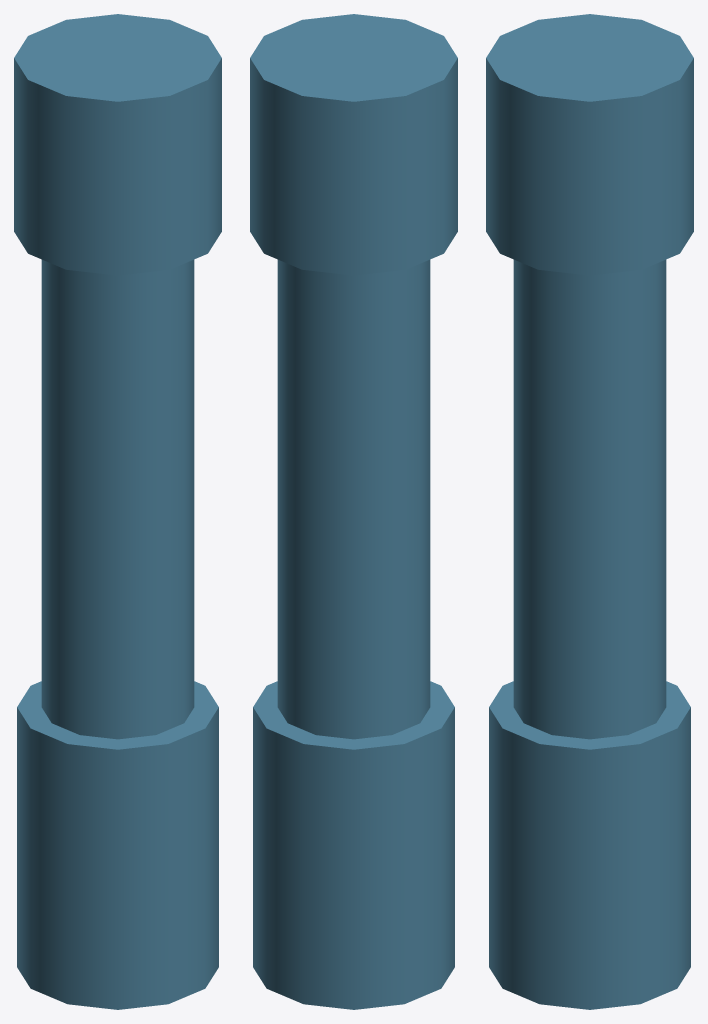
Rendered from GJ_Decor_Pile_02.fbx.
3 renders of one model, left to right at view 1: azimuth 30°, elevation 25°; view 2: azimuth 150°, elevation 25°; view 3: azimuth 270°, elevation 25°, orthographic.
Parts seen in each view (by area): view 1: GJ_Decor_Pile_02; view 2: GJ_Decor_Pile_02; view 3: GJ_Decor_Pile_02.
Part boxes in pixels (<box>): GJ_Decor_Pile_02: <box>14,14,221,1009</box>; GJ_Decor_Pile_02: <box>250,14,457,1009</box>; GJ_Decor_Pile_02: <box>486,14,693,1009</box>.
Size of the model in its own units: 5.63 by 27.2 by 5.63.
